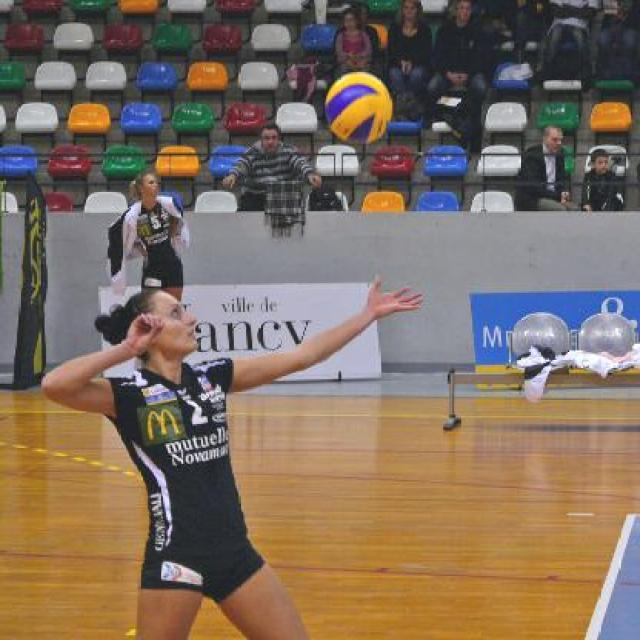volleyball: (324, 72, 392, 144)
